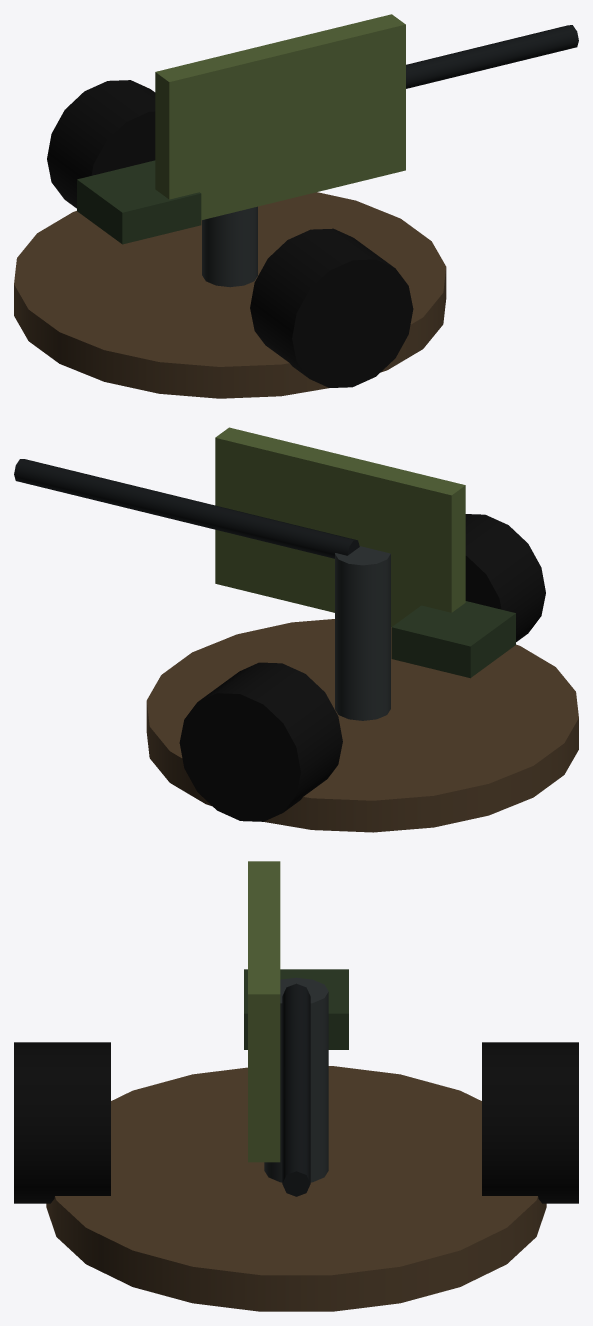
File: 37mm-aa-gun.glb
3 renders of one model, top to bottom at view 1: azimuth 30°, elevation 25°; view 2: azimuth 150°, elevation 25°; view 3: azimuth 270°, elevation 25°, orthographic. The views are drawn at different scales.
Visible parts, largest first — view 1: platform, shield, leftWheel, rightWheel, seat, barrel1, pedestal; view 2: platform, shield, rightWheel, pedestal, barrel1, seat, leftWheel; view 3: platform, leftWheel, rightWheel, shield, barrel1, pedestal, seat.
Boxes of the visible parts, x1=… form: platform: x1=14, y1=192, x2=446, y2=398; shield: x1=155, y1=14, x2=405, y2=220; leftWheel: x1=250, y1=228, x2=413, y2=387; rightWheel: x1=47, y1=80, x2=155, y2=208; seat: x1=77, y1=160, x2=201, y2=244; barrel1: x1=406, y1=25, x2=578, y2=88; pedestal: x1=202, y1=206, x2=257, y2=287; platform: x1=146, y1=619, x2=578, y2=832; shield: x1=215, y1=427, x2=465, y2=626; rightWheel: x1=179, y1=662, x2=342, y2=821; pedestal: x1=335, y1=546, x2=390, y2=720; barrel1: x1=14, y1=459, x2=359, y2=558; seat: x1=391, y1=601, x2=515, y2=678; leftWheel: x1=465, y1=514, x2=545, y2=641; platform: x1=46, y1=1066, x2=546, y2=1311; leftWheel: x1=14, y1=1042, x2=110, y2=1203; rightWheel: x1=482, y1=1042, x2=578, y2=1203; shield: x1=248, y1=861, x2=280, y2=1162; barrel1: x1=282, y1=983, x2=310, y2=1196; pedestal: x1=264, y1=977, x2=328, y2=1182; seat: x1=244, y1=969, x2=348, y2=1049.
Bounding box in the file's own units: 1.74 × 0.83 × 1.4.
